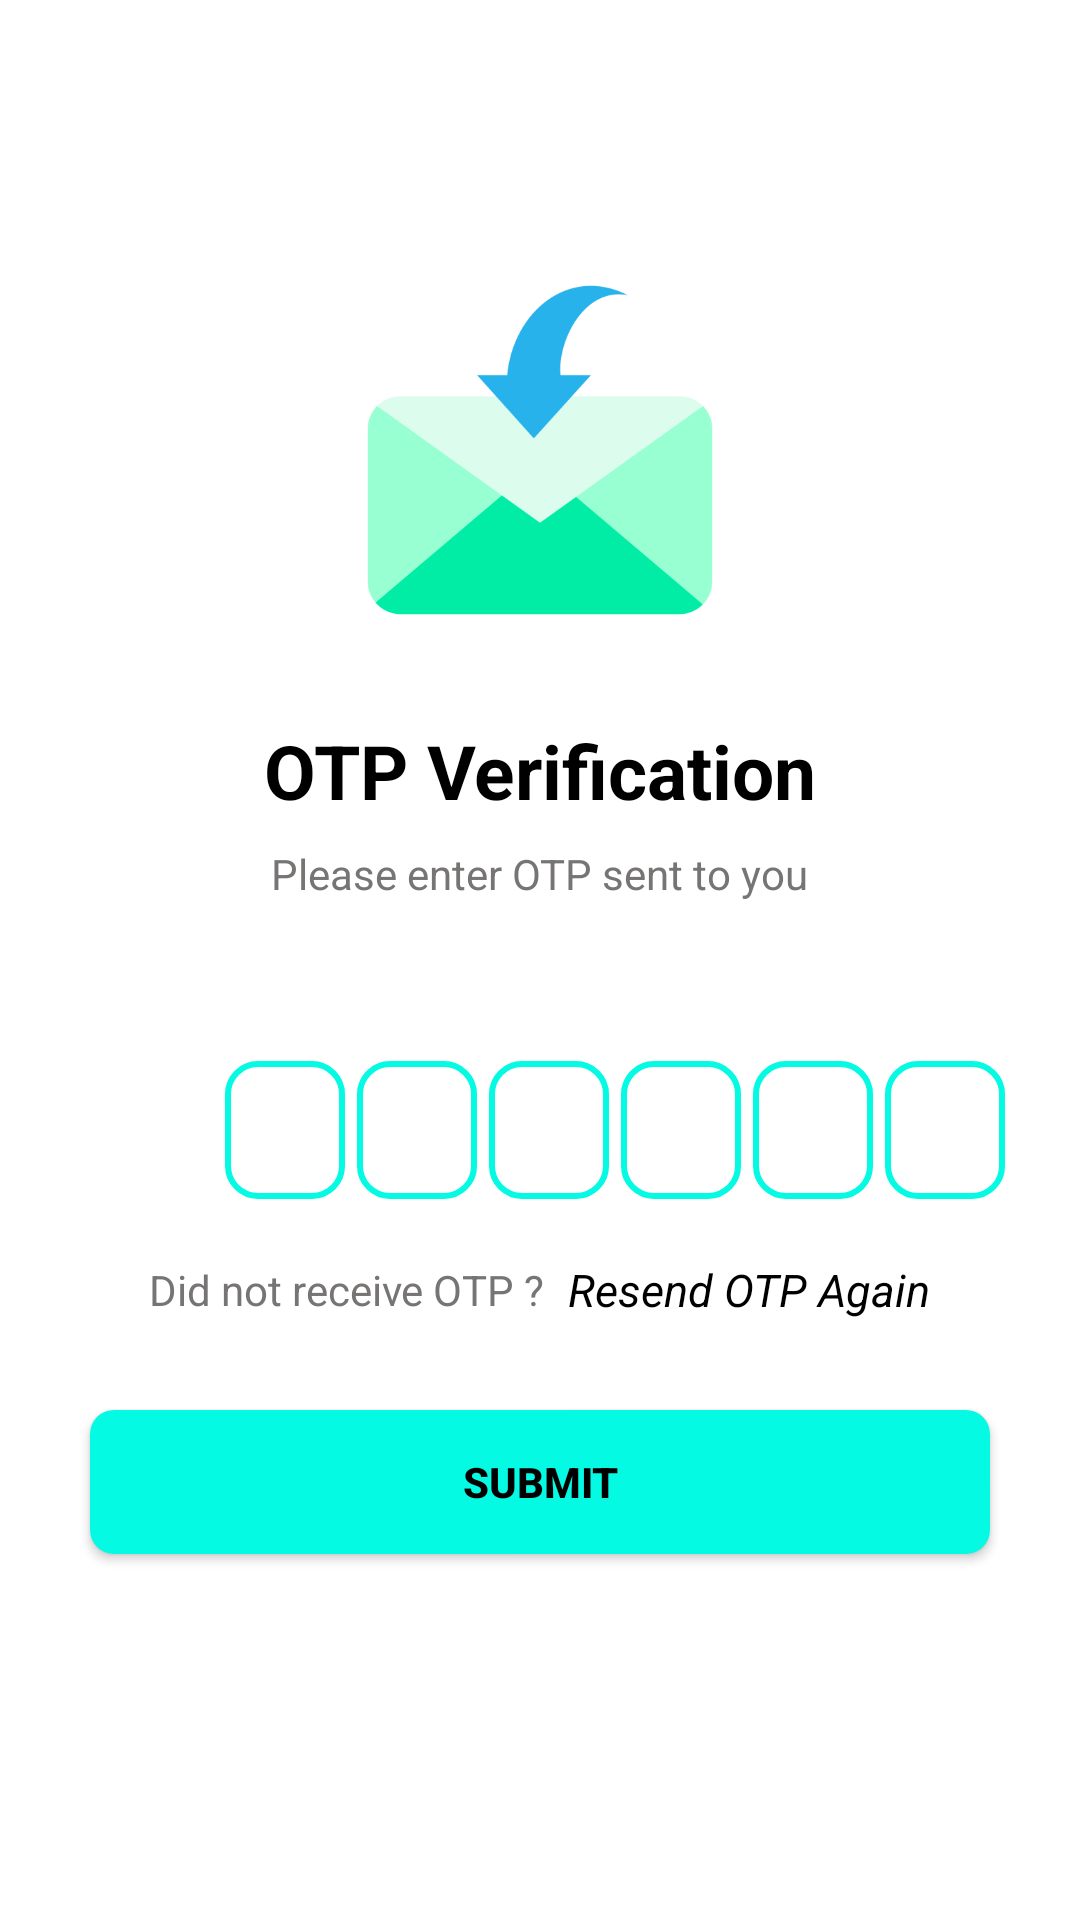

Named icons in this screenshot (1080px x 1920px) and their centers, (x,y):
receivemail: (540,450)
